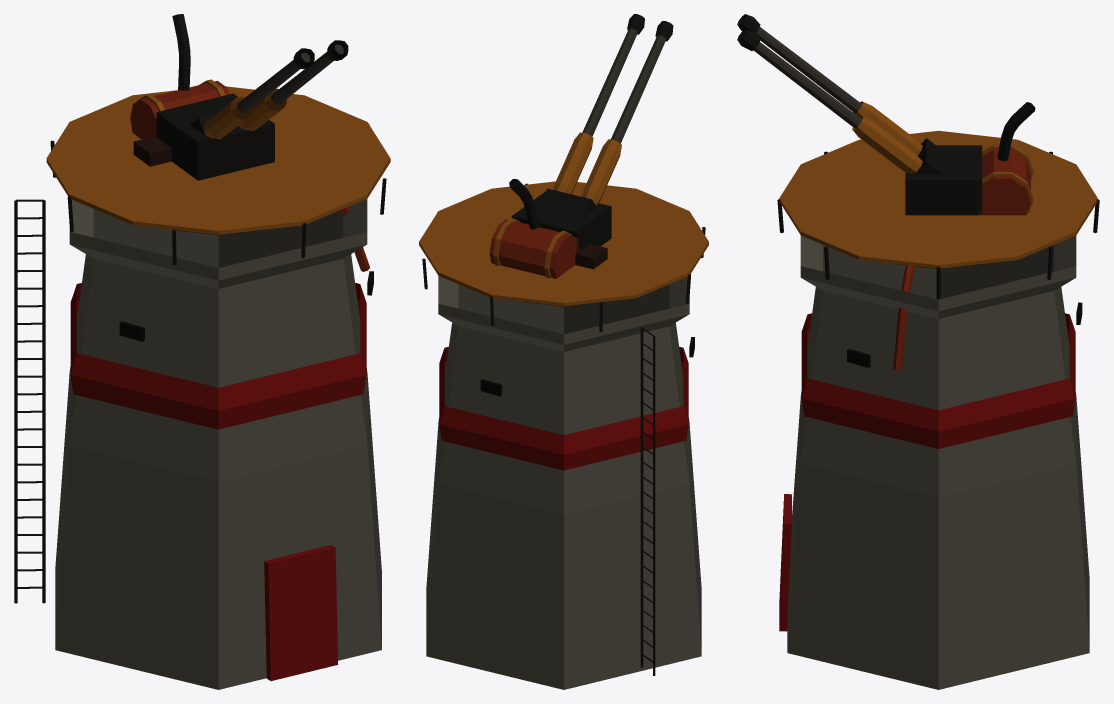
The model's file is Torre_Flak.obj.
The picture shows the model from 3 angles, left to right: view 1: azimuth 30°, elevation 25°; view 2: azimuth 150°, elevation 25°; view 3: azimuth 270°, elevation 25°; orthographic projection. The views are drawn at different scales.
Parts seen in each view (by area): view 1: Cuerpo, Torreta, Elevacion; view 2: Cuerpo, Torreta, Elevacion; view 3: Cuerpo, Torreta, Elevacion.
Part boxes in pixels (left/top/right/bottom): Cuerpo: left=14, top=86, right=390, bottom=689; Torreta: left=130, top=14, right=274, bottom=235; Elevacion: left=190, top=40, right=348, bottom=139; Cuerpo: left=419, top=181, right=708, bottom=689; Torreta: left=489, top=179, right=611, bottom=306; Elevacion: left=540, top=14, right=673, bottom=216; Cuerpo: left=777, top=130, right=1099, bottom=689; Torreta: left=895, top=102, right=1035, bottom=268; Elevacion: left=737, top=14, right=942, bottom=174.
Size of the model in its own units: 6.8 by 12.77 by 7.06.
